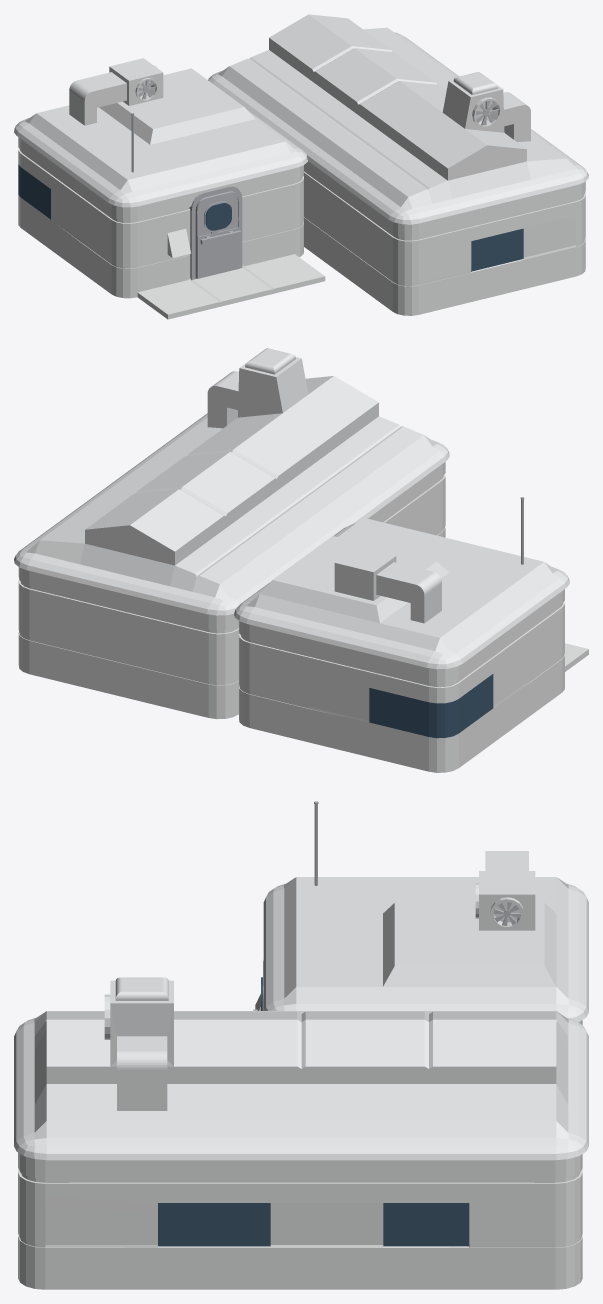
Rendered from modulo_lunar.fbx.
3 views of the same model, one above another, from view 1: azimuth 30°, elevation 25°; view 2: azimuth 150°, elevation 25°; view 3: azimuth 270°, elevation 25° (orthographic). The views are drawn at different scales.
Visible parts, largest first — view 1: Teto, Base, Porta, Janelas, VidroPorta; view 2: Teto, Base, Janelas; view 3: Teto, Base, Janelas.
Boxes of the visible parts, bbox=[...] form: Teto: bbox=[14, 14, 588, 224]; Base: bbox=[18, 137, 585, 319]; Porta: bbox=[189, 186, 242, 280]; Janelas: bbox=[18, 164, 523, 271]; VidroPorta: bbox=[205, 203, 231, 230]; Teto: bbox=[14, 348, 569, 669]; Base: bbox=[18, 462, 588, 772]; Janelas: bbox=[369, 674, 493, 738]; Teto: bbox=[14, 851, 588, 1160]; Base: bbox=[18, 994, 582, 1289]; Janelas: bbox=[158, 1203, 469, 1246].
Bounding box in the file's own units: 10.74 × 4.69 × 9.61.
